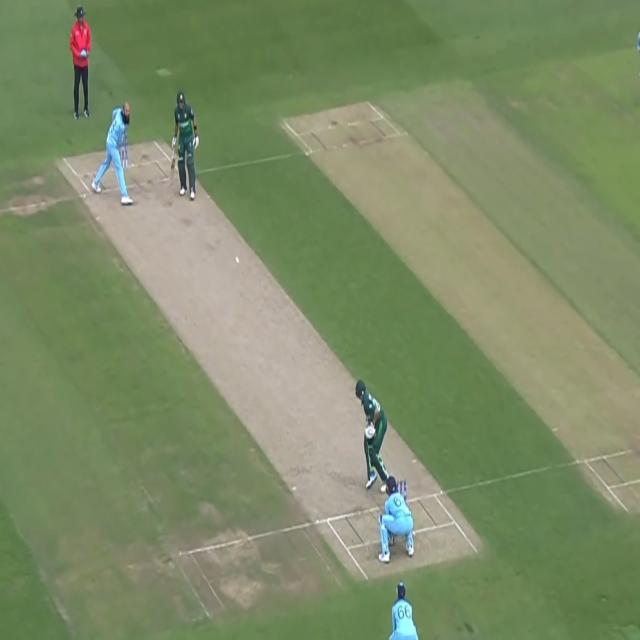ball: (232, 253, 242, 269)
